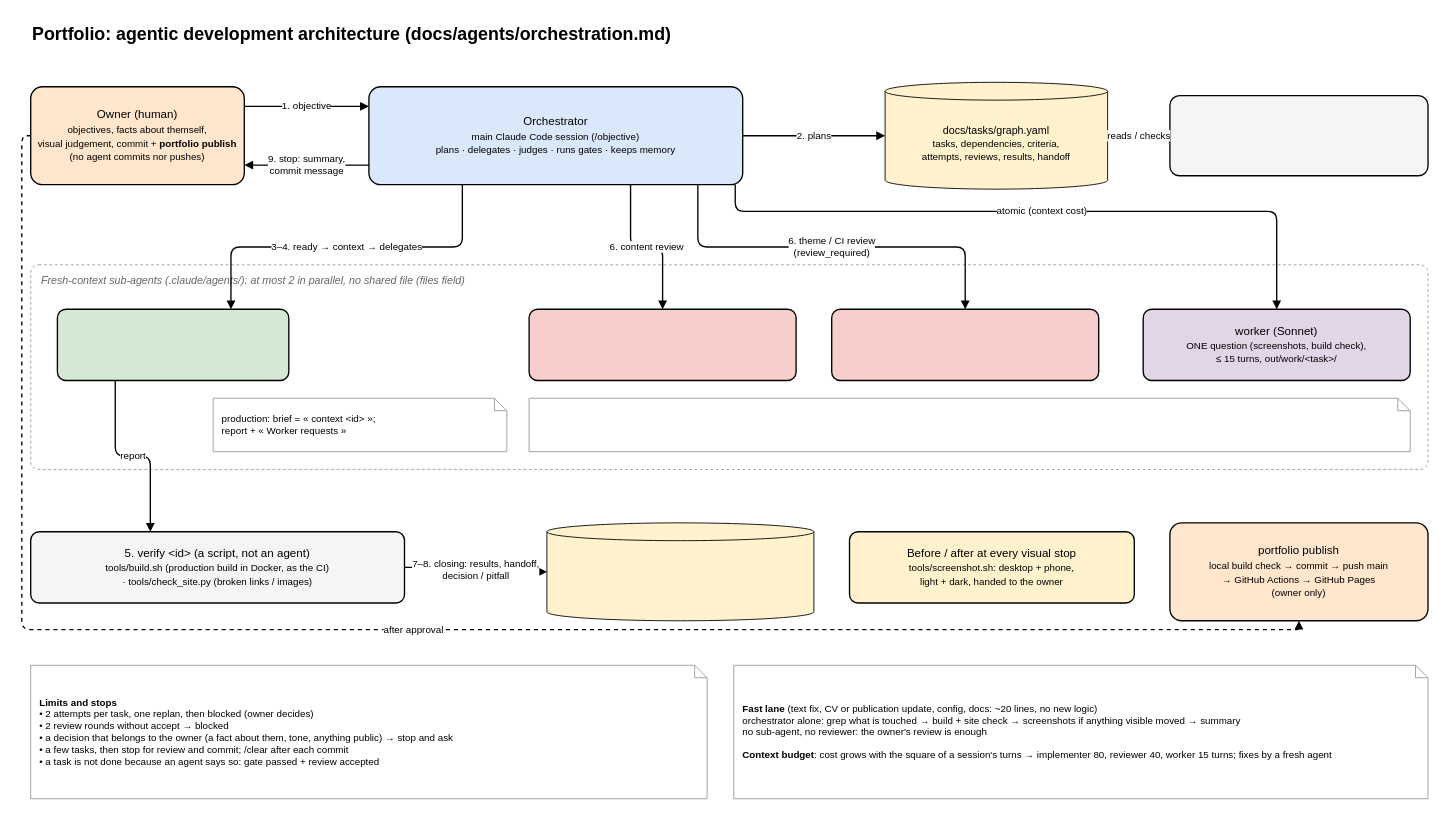
Some shapes in this 1444 by 814 pixel diagram are drawn without their labels. The shapes that lost their labels are listed below. From the top down, each one's centre as x and y in pixels, then its label:
At pixel 1298 135: "tools/tasks.py check · status · ready · context <id> · verify <id> · fresh".
At pixel 172 344: "implementer one task: content, theme, config, CI, tooling".
At pixel 662 344: "content-reviewer (read-only, Sonnet) facts vs cv.yml / papers.bib, tone, English".
At pixel 965 344: "reviewer (read-only) theme, layout, CI: verdict accept / changes / reject".
At pixel 969 424: "review: brief + diff + screenshots → docs/reviews/<id>-<n>.md; 2 rounds at most".
At pixel 680 571: "docs/memory/ state.md · decisions.md (D-) · pitfalls.md (P-) · docs/reviews/".
